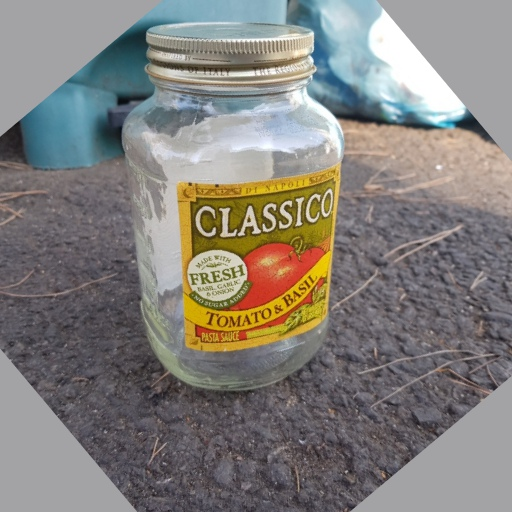Glass_5: (116, 19, 345, 395)
